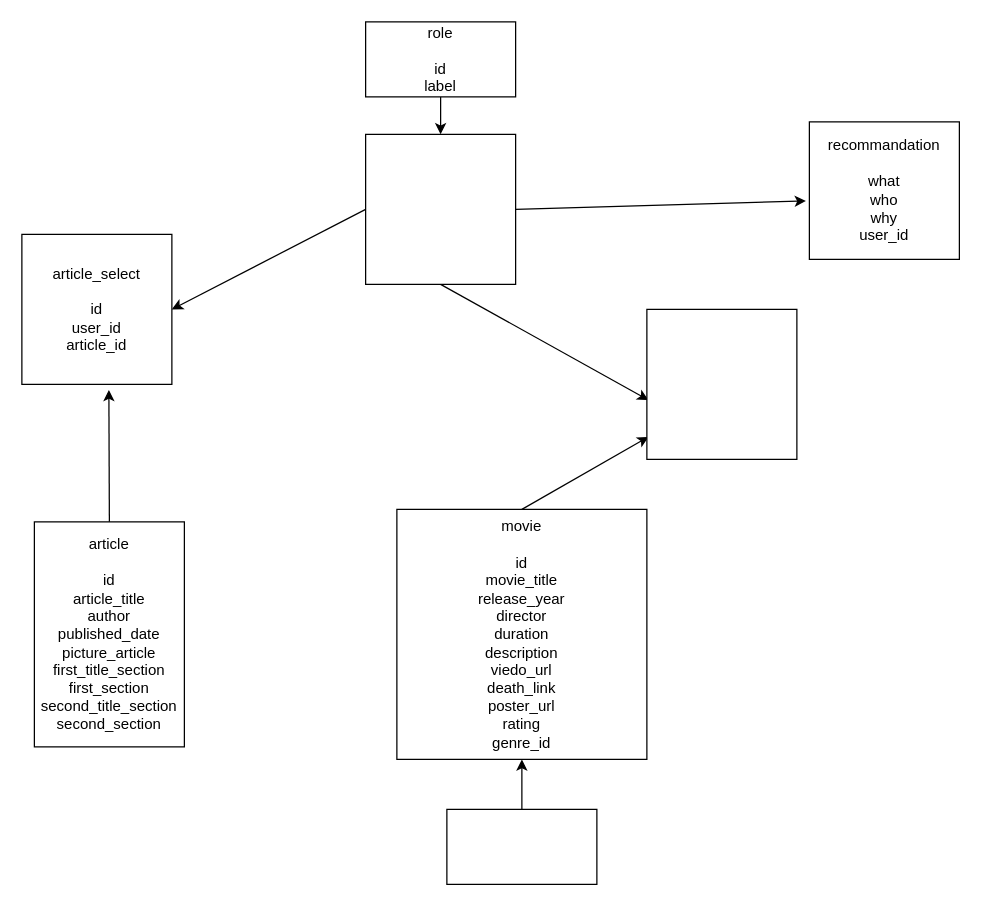
This 981x906 diagram has some shape labels left out. The box of each missing label's shape, as (x1, y1, x2, y2) in pixels:
favorite_movie id user_rating user_id movie_id: (646, 308, 797, 459)
Genre id label: (446, 808, 597, 884)
user id pseudo photo email hashed_password role_id: (364, 133, 516, 284)
